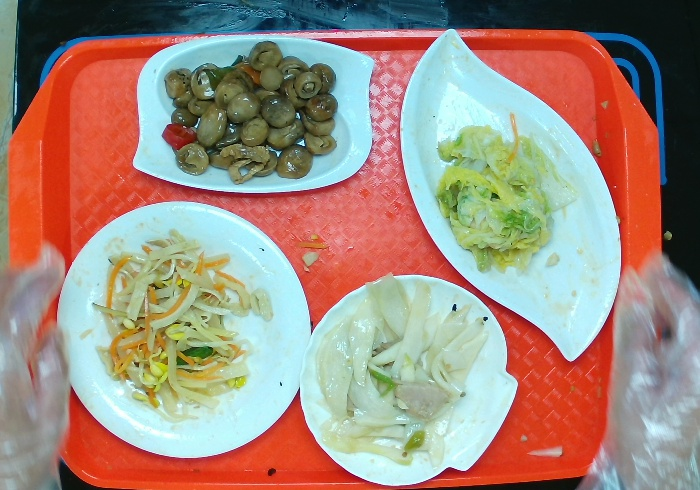RJxy-Bei_Ke_Wan: (296, 270, 522, 490)
RJxy-Jian_Jiao_Fang_Die: (129, 32, 380, 196)
RJxy-Jian_Jiao_Pan: (396, 25, 626, 365)
RJxy-Yuan_Pan: (54, 199, 312, 461)
